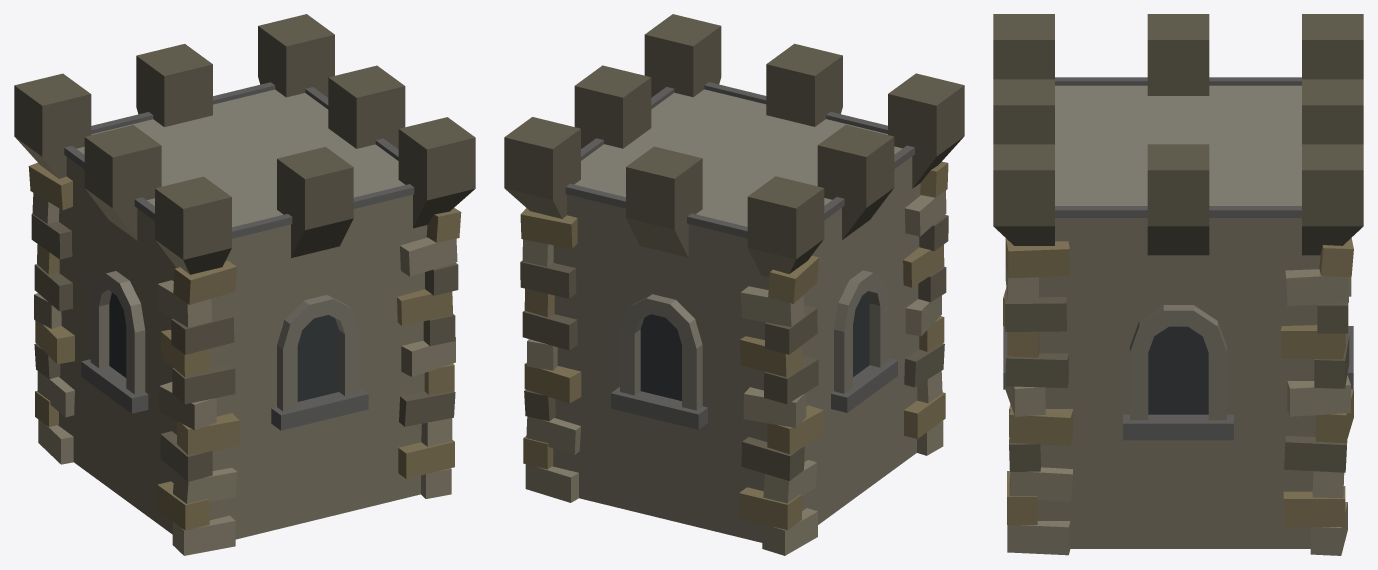
Rendered from Tower.fbx.
3 renders of one model, left to right at view 1: azimuth 30°, elevation 25°; view 2: azimuth 150°, elevation 25°; view 3: azimuth 270°, elevation 25°, orthographic. The views are drawn at different scales.
Visible parts, largest first — view 1: Tower; view 2: Tower; view 3: Tower.
Part boxes in pixels (x1,y1,x2,y2): Tower: (14,14,475,555); Tower: (504,14,964,555); Tower: (993,14,1363,555).
Size of the model in its own units: 60 by 70 by 60.
Materials: 1 (1 with a texture image).
